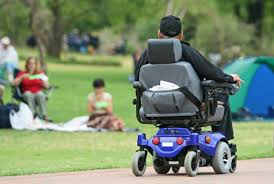wheelchair: (128, 39, 241, 178)
